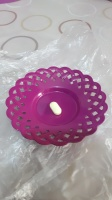Aferin: (49, 101, 63, 116)
